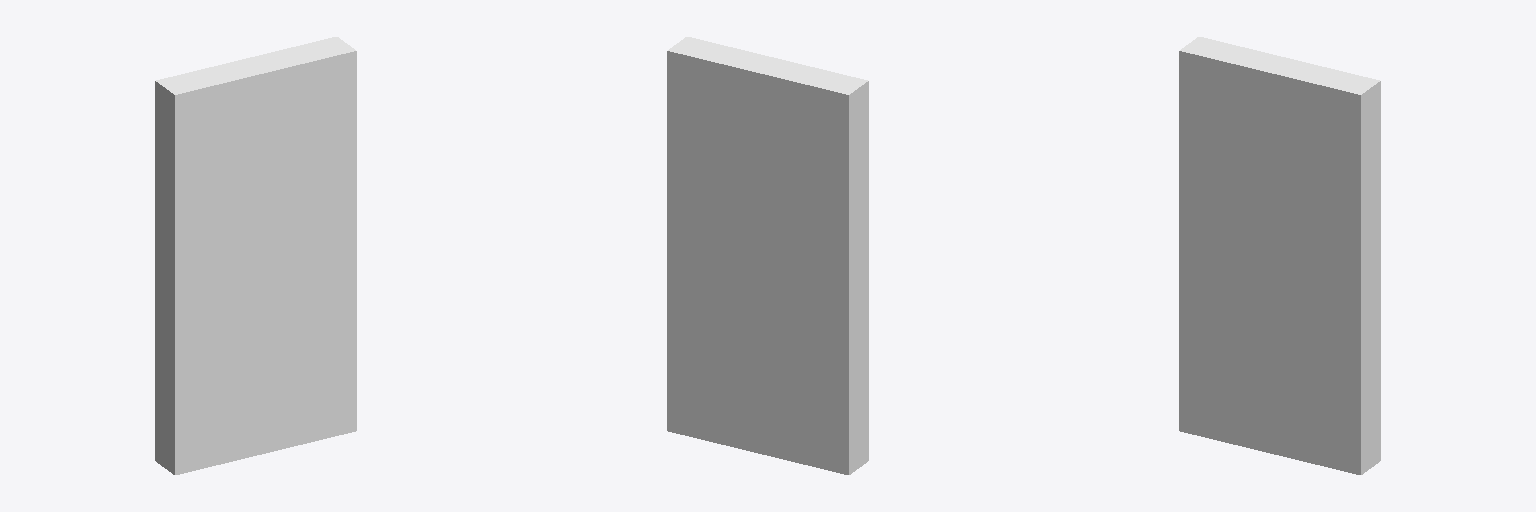
Rendered from wall_flat.obj.
3 renders of one model, left to right at view 1: azimuth 30°, elevation 25°; view 2: azimuth 150°, elevation 25°; view 3: azimuth 330°, elevation 25°, orthographic.
Parts seen in each view (by area): view 1: wall_flat; view 2: wall_flat; view 3: wall_flat.
Part boxes in pixels (x1,y1,x2,y2): wall_flat: (155,37,356,474); wall_flat: (667,37,868,474); wall_flat: (1179,37,1380,474).
Size of the model in its own units: 6.22 by 12.44 by 1.17.